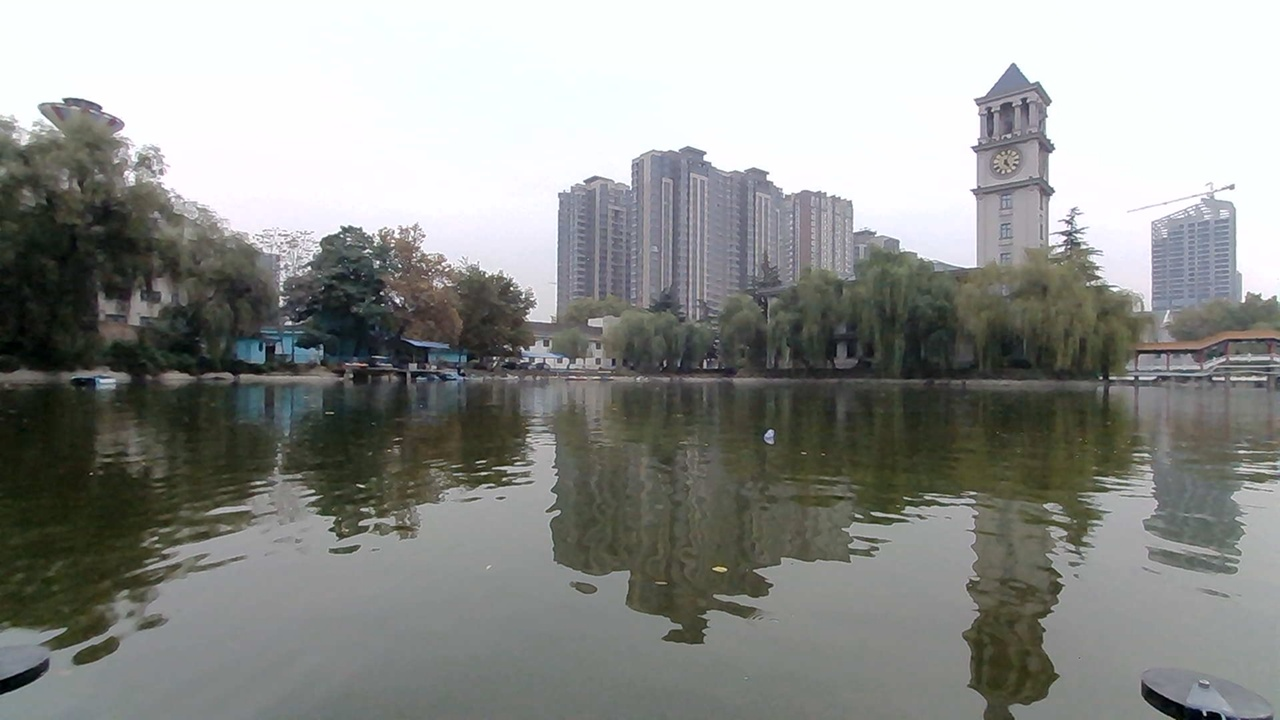bottle: (747, 417, 796, 449)
